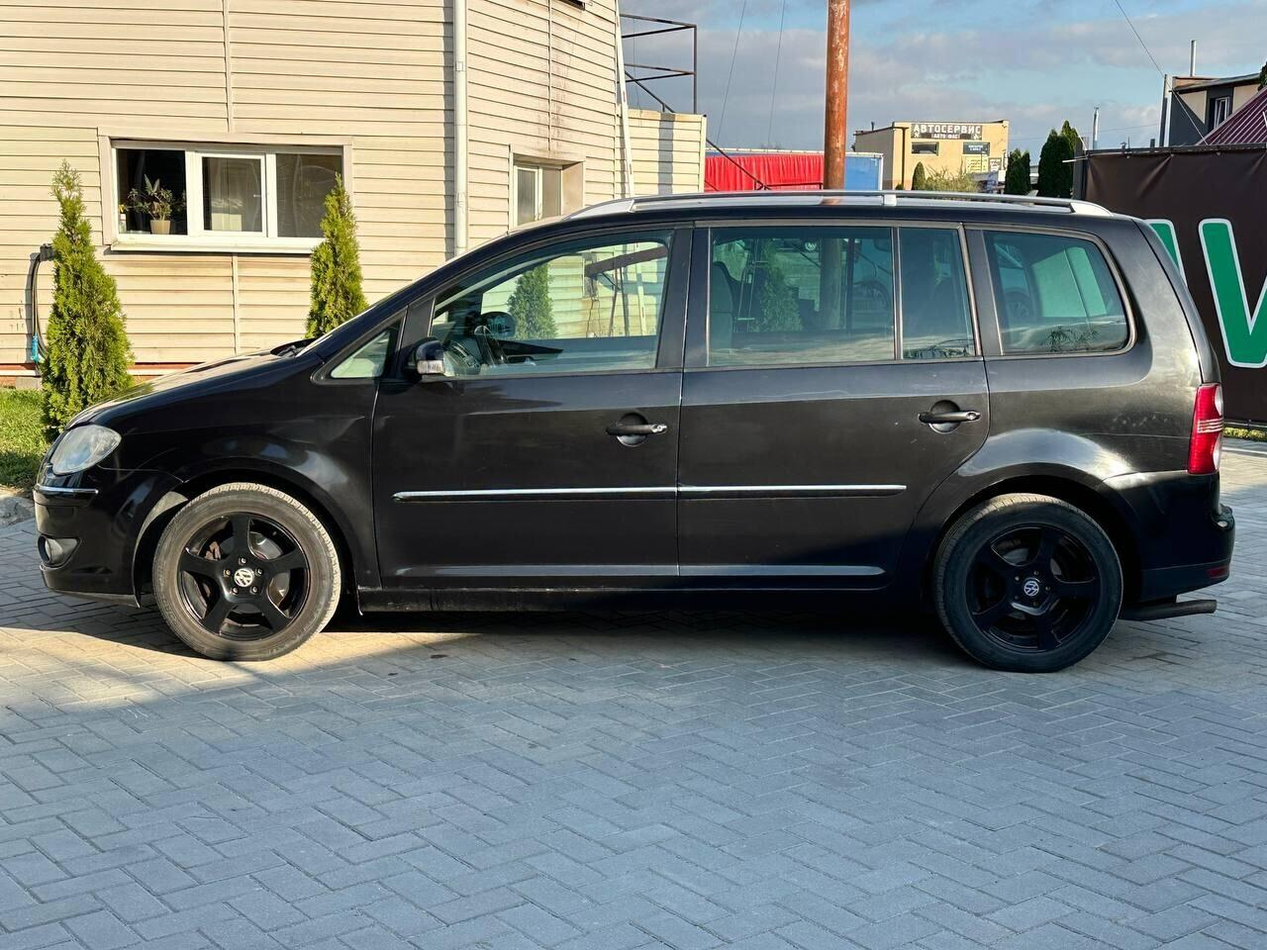Touran_2006-2010: (30, 190, 1239, 675)
